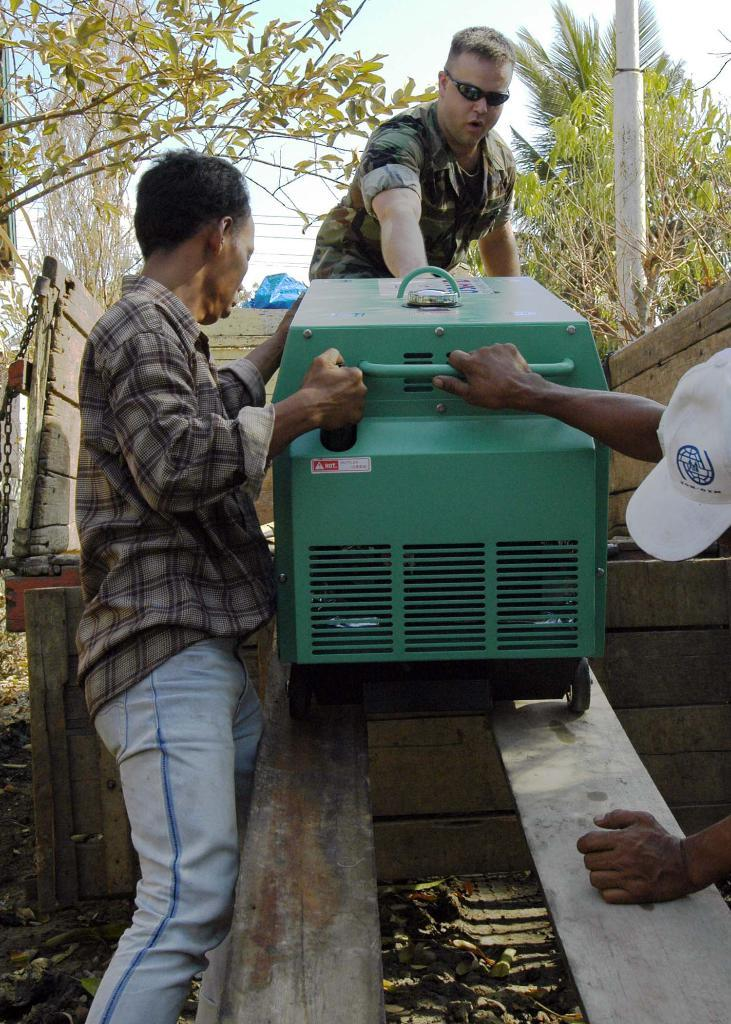Hat: (623, 344, 730, 567)
